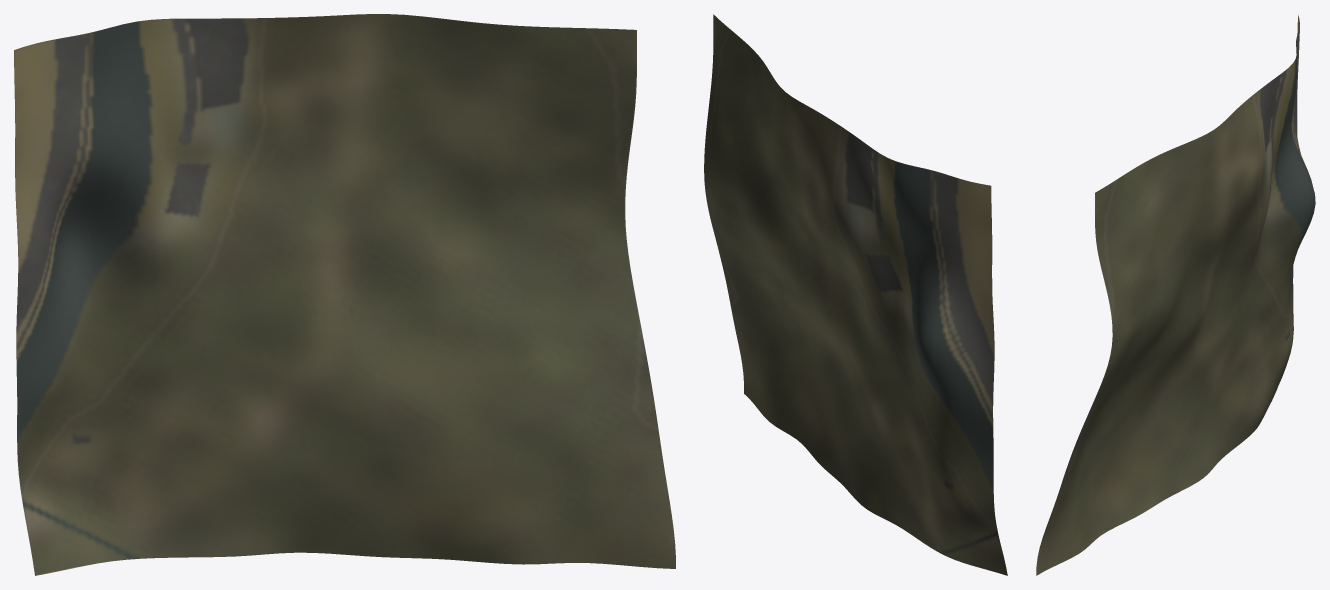
The model's file is ground_mid_05_01.obj.
The picture shows the model from 3 angles, left to right: view 1: azimuth 30°, elevation 25°; view 2: azimuth 150°, elevation 25°; view 3: azimuth 270°, elevation 25°; orthographic projection. The views are drawn at different scales.
Visible parts, largest first — view 1: ground_mid_05_01; view 2: ground_mid_05_01; view 3: ground_mid_05_01.
Part boxes in pixels (x1,y1,x2,y2): ground_mid_05_01: (14, 14, 675, 575); ground_mid_05_01: (704, 14, 1007, 575); ground_mid_05_01: (1036, 15, 1315, 575).
Bounding box in the file's own units: 200 × 200 × 132.
Materials: 1 (1 with a texture image).
